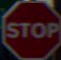Stop: (3, 5, 58, 53)
